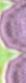Tomato Early blight leaf: (0, 23, 26, 60)
